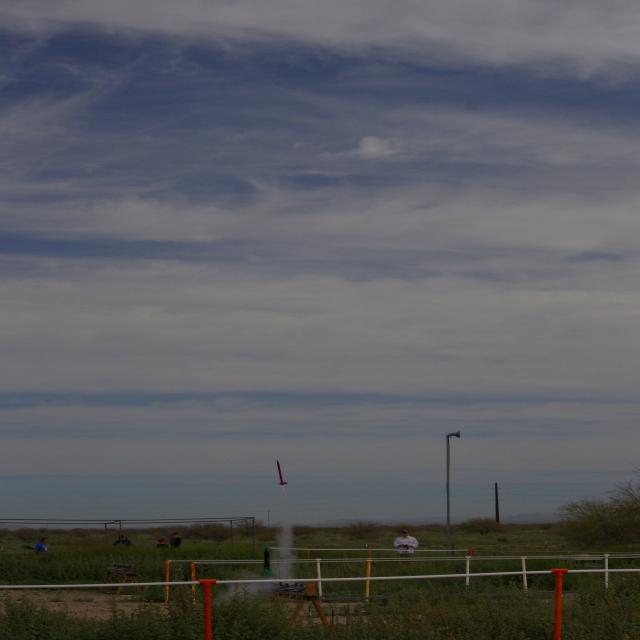Rocket: (258, 540, 276, 578), (276, 460, 288, 486)
